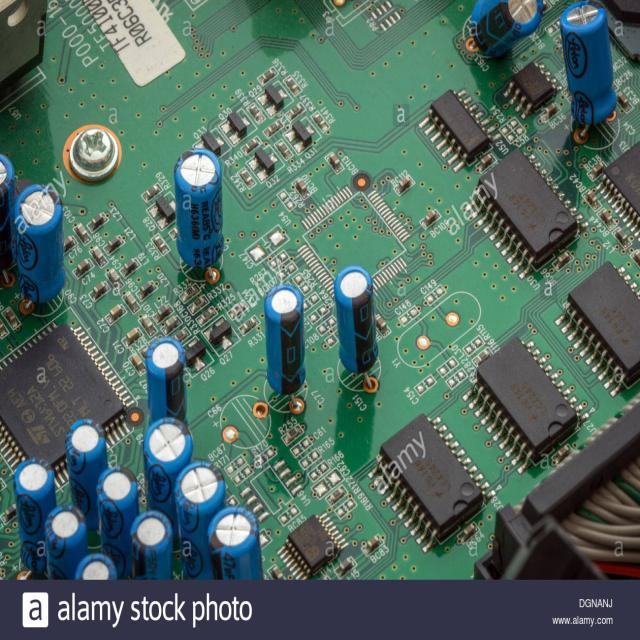capacitor: (561, 0, 616, 139), (175, 148, 224, 280), (15, 183, 64, 308), (175, 461, 223, 581), (335, 265, 378, 388), (264, 285, 306, 409), (96, 466, 138, 576), (14, 458, 54, 572), (144, 417, 192, 510), (468, 0, 544, 58), (66, 419, 106, 529), (208, 506, 261, 579), (145, 337, 187, 421), (44, 506, 88, 579), (131, 511, 173, 580)
